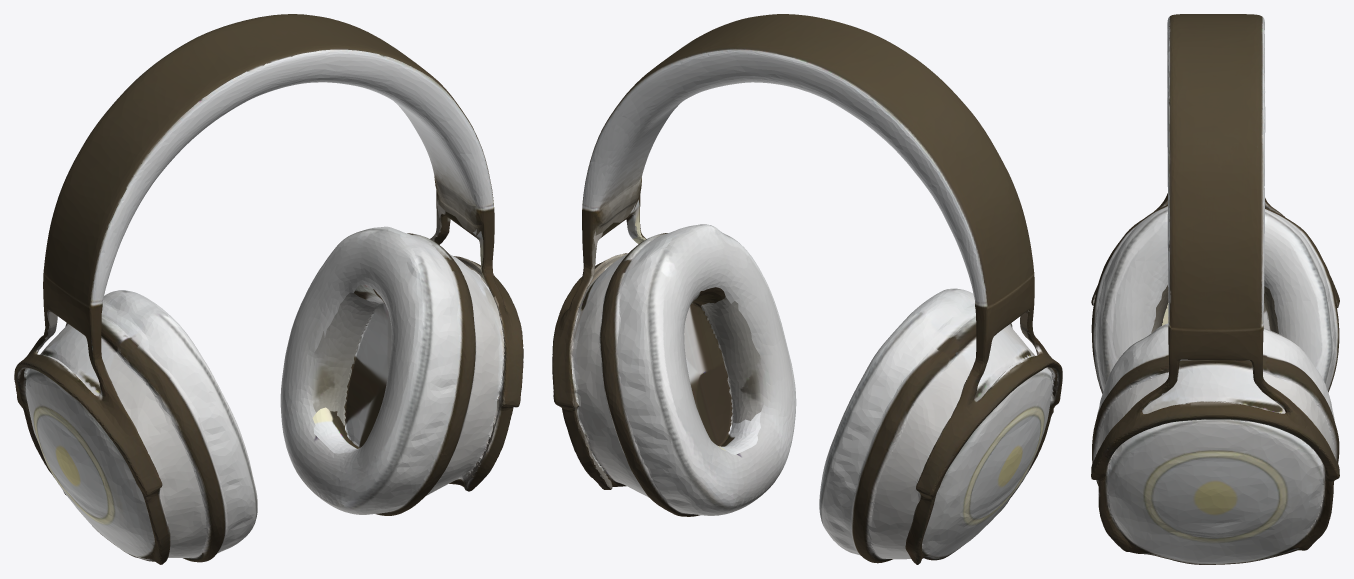
The picture shows the model from 3 angles, left to right: view 1: azimuth 30°, elevation 25°; view 2: azimuth 150°, elevation 25°; view 3: azimuth 270°, elevation 25°; orthographic projection. The views are drawn at different scales.
Parts seen in each view (by area): view 1: tmpz2_v7fi3.ply; view 2: tmpz2_v7fi3.ply; view 3: tmpz2_v7fi3.ply.
Boxes of the visible parts, x1,y1,x2,y2 form: tmpz2_v7fi3.ply: (14, 14, 523, 564); tmpz2_v7fi3.ply: (552, 14, 1062, 564); tmpz2_v7fi3.ply: (1091, 14, 1339, 564).
Size of the model in its own units: 0.9266 by 1 by 0.4754.
Materials: 1 (1 with a texture image).
